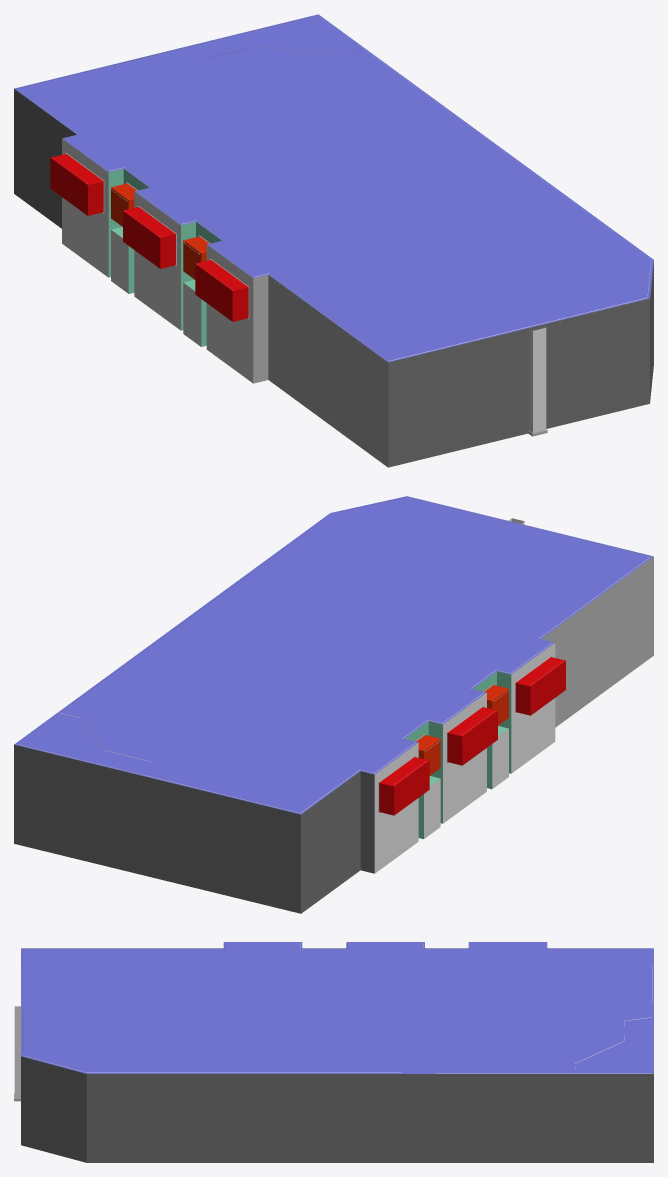
File: Room_0.fbx
3 renders of one model, top to bottom at view 1: azimuth 30°, elevation 25°; view 2: azimuth 150°, elevation 25°; view 3: azimuth 270°, elevation 25°, orthographic. The views are drawn at different scales.
Parts seen in each view (by area): view 1: Room, Column, Room.001; view 2: Room, Room.001; view 3: Room, Room.001, Column, Room.002.
Boxes of the visible parts, bbox=[...] form: Room: bbox=[14, 14, 653, 467]; Column: bbox=[529, 325, 546, 433]; Room.001: bbox=[17, 15, 651, 361]; Room: bbox=[14, 496, 653, 913]; Room.001: bbox=[17, 497, 651, 813]; Room: bbox=[21, 942, 653, 1162]; Room.001: bbox=[22, 943, 651, 1073]; Column: bbox=[14, 1006, 20, 1098]; Room.002: bbox=[87, 943, 652, 1073].
Size of the model in its own units: 2000 by 601 by 3906.
